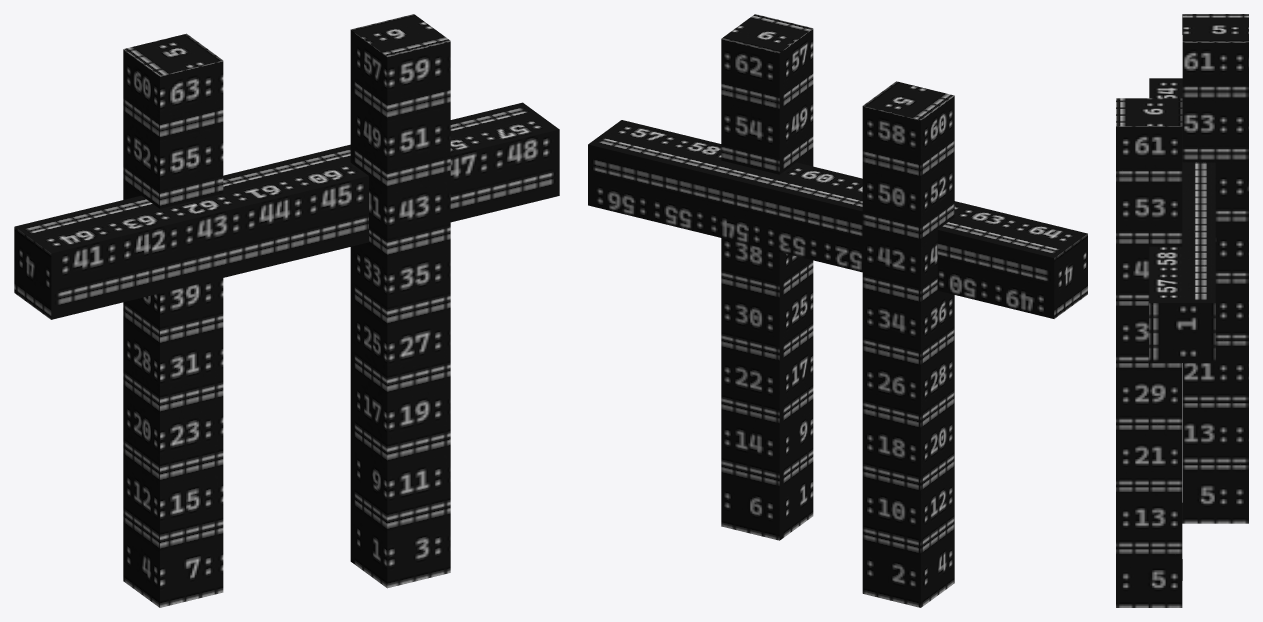
The picture shows the model from 3 angles, left to right: view 1: azimuth 30°, elevation 25°; view 2: azimuth 150°, elevation 25°; view 3: azimuth 270°, elevation 25°; orthographic projection. The views are drawn at different scales.
Visible parts, largest first — view 1: 栏杆; view 2: 栏杆; view 3: 栏杆.
Boxes of the visible parts, <box> form: 栏杆: <box>14,14,559,607</box>; 栏杆: <box>588,14,1087,607</box>; 栏杆: <box>1116,14,1248,607</box>.
Size of the model in its own units: 100 by 100 by 25.
